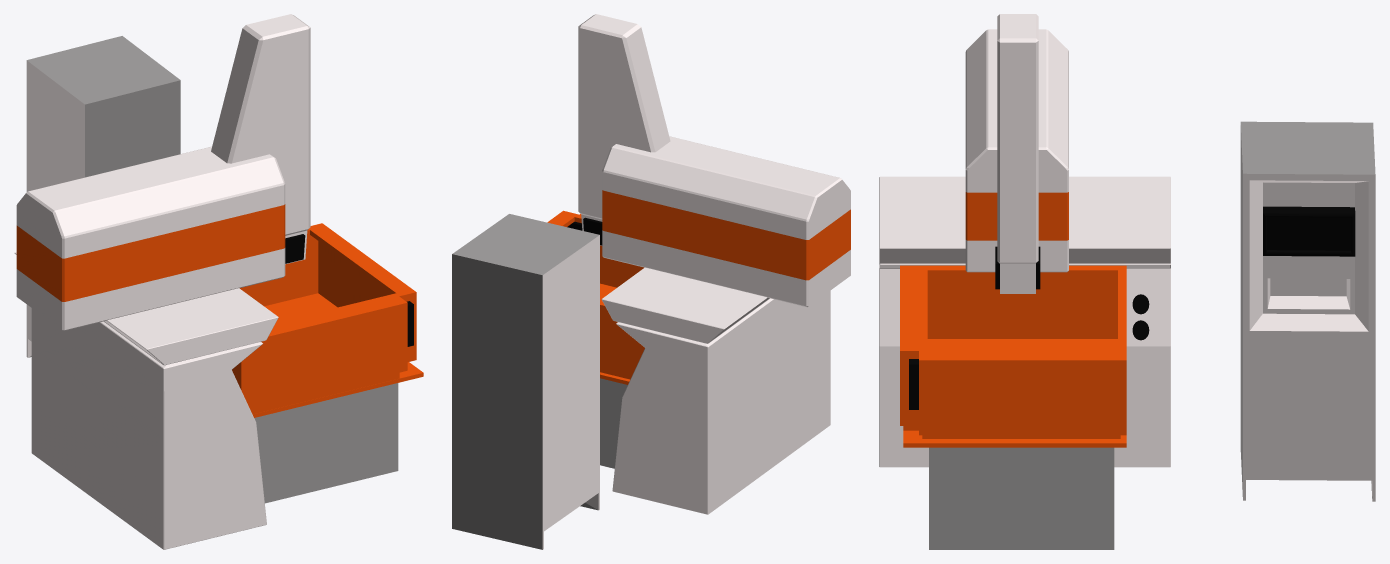
File: Roboform.fbx
The picture shows the model from 3 angles, left to right: view 1: azimuth 30°, elevation 25°; view 2: azimuth 150°, elevation 25°; view 3: azimuth 270°, elevation 25°; orthographic projection. The views are drawn at different scales.
Visible parts, largest first — view 1: roboform_40; view 2: roboform_40; view 3: roboform_40.
Boxes of the visible parts, x1,y1,x2,y2 form: roboform_40: (14,14,423,549); roboform_40: (452,14,850,549); roboform_40: (879,14,1375,549).
Size of the model in its own units: 229 by 269 by 287.
